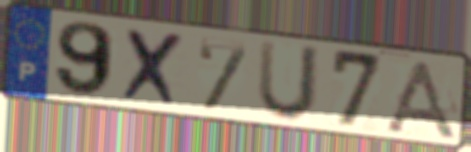7: (329, 46, 385, 131), (195, 34, 252, 113)
9: (54, 20, 121, 102)
A: (379, 58, 462, 144)
U: (254, 38, 324, 125)
X: (118, 26, 190, 111)
